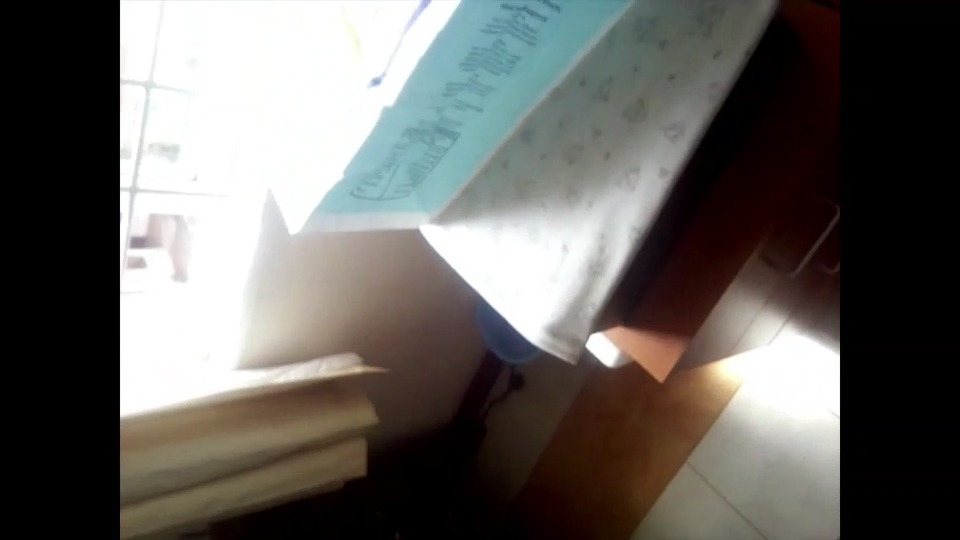wheat_flour_blue_label: (284, 2, 630, 223)
